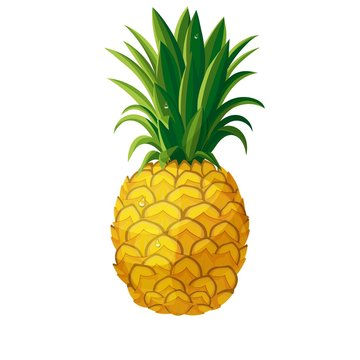Pineapple: (107, 8, 264, 315)
